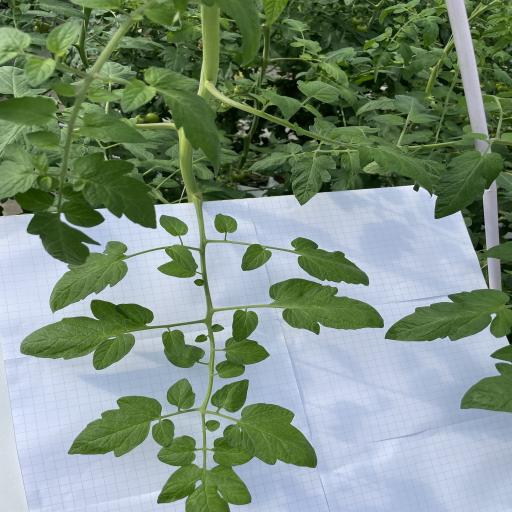Healthy: (20, 300, 154, 370), (385, 288, 512, 342), (67, 395, 175, 458), (71, 152, 158, 230), (269, 278, 384, 335), (224, 402, 318, 468), (49, 240, 128, 314), (161, 88, 222, 179), (434, 150, 504, 220), (156, 463, 252, 512), (24, 212, 102, 266), (358, 144, 434, 198), (290, 236, 370, 286), (202, 0, 261, 67), (291, 155, 337, 206), (78, 112, 148, 144), (460, 373, 512, 412), (0, 142, 34, 201), (0, 95, 58, 126), (0, 65, 48, 97), (257, 86, 302, 120), (402, 50, 453, 80), (392, 94, 442, 124), (46, 19, 81, 58), (225, 336, 270, 366), (211, 379, 250, 413), (214, 436, 256, 467), (63, 198, 106, 228), (144, 66, 200, 89), (157, 435, 197, 466), (121, 81, 157, 113), (296, 80, 342, 104), (23, 57, 57, 88), (157, 46, 196, 73), (38, 0, 89, 20), (164, 244, 198, 273), (14, 188, 55, 212), (164, 345, 206, 368), (355, 96, 396, 118), (166, 378, 195, 409), (246, 152, 288, 173), (241, 244, 272, 272), (166, 20, 202, 44), (232, 309, 258, 342), (318, 62, 350, 88), (421, 16, 446, 48), (25, 129, 61, 151), (262, 0, 290, 27), (156, 260, 197, 278), (98, 62, 138, 80), (362, 27, 392, 51), (330, 125, 380, 139), (162, 329, 186, 358), (159, 214, 189, 237), (379, 4, 406, 26), (87, 87, 121, 104), (321, 47, 357, 63), (400, 129, 434, 145), (216, 360, 246, 378), (214, 212, 238, 234), (340, 152, 361, 177), (126, 147, 154, 163), (193, 162, 215, 181), (397, 42, 413, 66), (150, 176, 181, 188), (281, 19, 310, 31), (374, 114, 404, 125), (305, 104, 324, 121), (448, 133, 488, 141), (147, 158, 172, 168), (284, 142, 302, 154), (402, 26, 419, 36), (19, 2, 31, 14), (93, 24, 104, 36), (420, 8, 436, 16), (406, 0, 421, 8)
